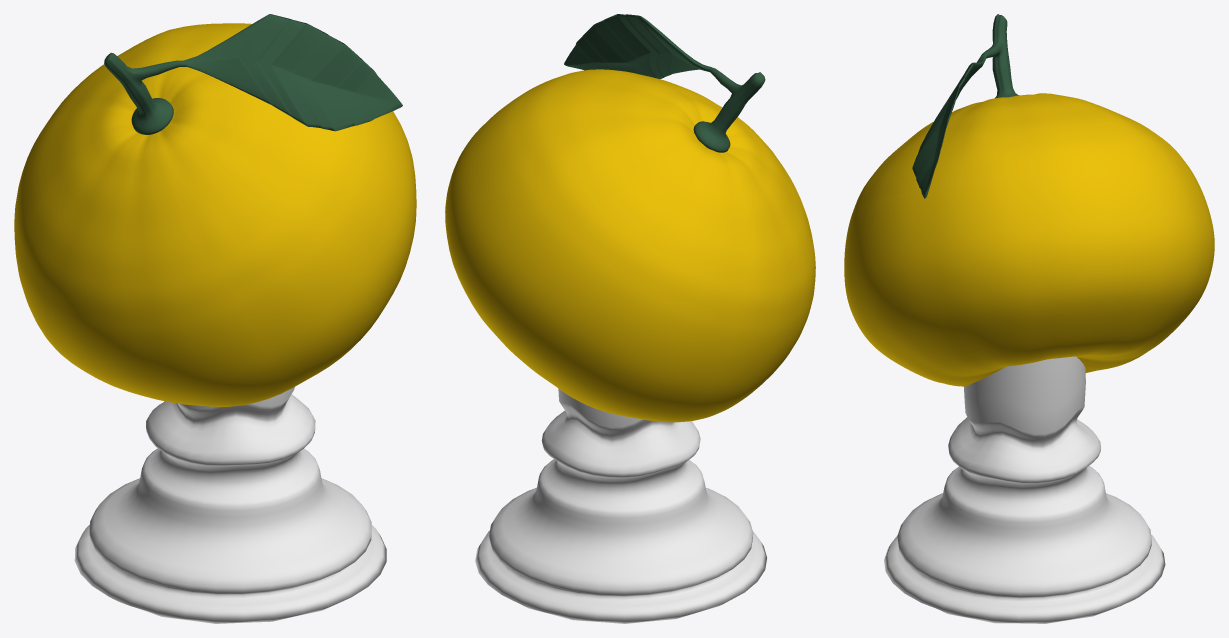
The model's file is MIKAN.fbx.
The picture shows the model from 3 angles, left to right: view 1: azimuth 30°, elevation 25°; view 2: azimuth 150°, elevation 25°; view 3: azimuth 270°, elevation 25°; orthographic projection. The views are drawn at different scales.
Visible parts, largest first — view 1: pSphere4; view 2: pSphere4; view 3: pSphere4.
Part boxes in pixels (x1=…): pSphere4: x1=14, y1=14, x2=416, y2=623; pSphere4: x1=445, y1=14, x2=815, y2=623; pSphere4: x1=844, y1=14, x2=1214, y2=623.
Size of the model in its own units: 8.24 by 13.18 by 8.56.
